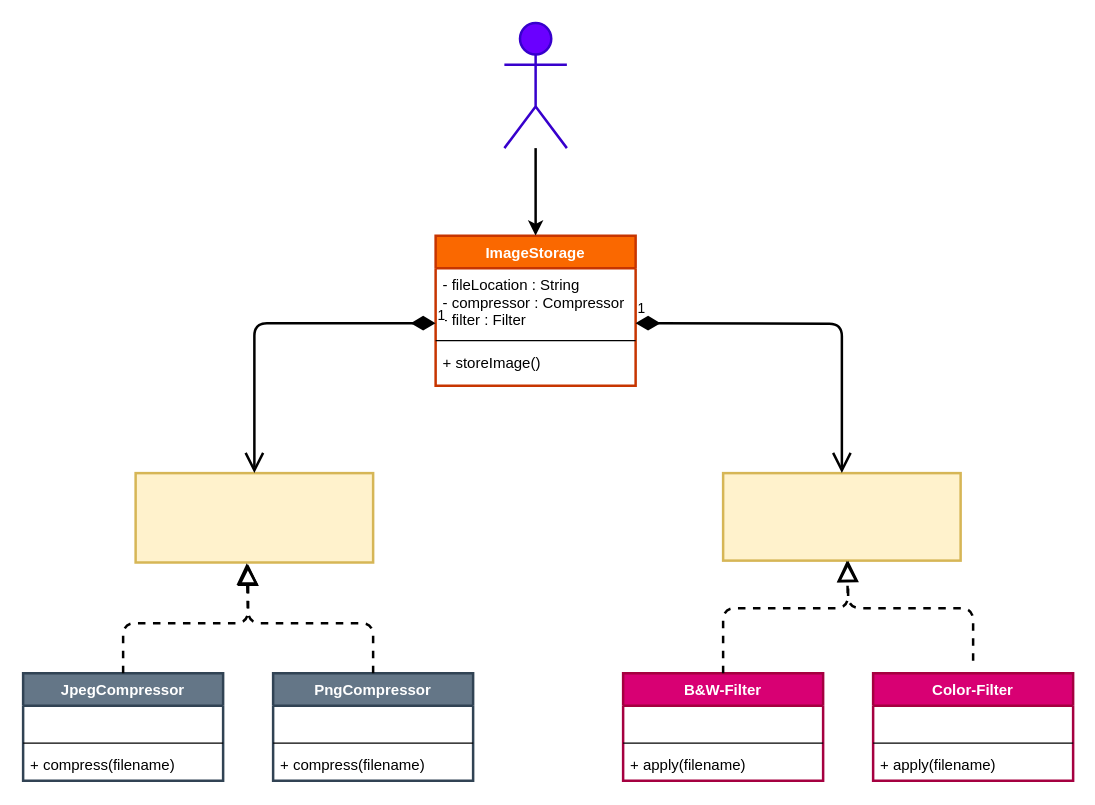
The diagram is 1095 pixels wide and 805 high, and some of its shapes have lost their labels. Each missing label, with the centre of its shape:
"<<Interface>> Compressor + compress(filename)" belongs at point 254,517.
"<<Interface>> Filter + apply(filename)" belongs at point 841,516.
"Client" belongs at point 535,85.
